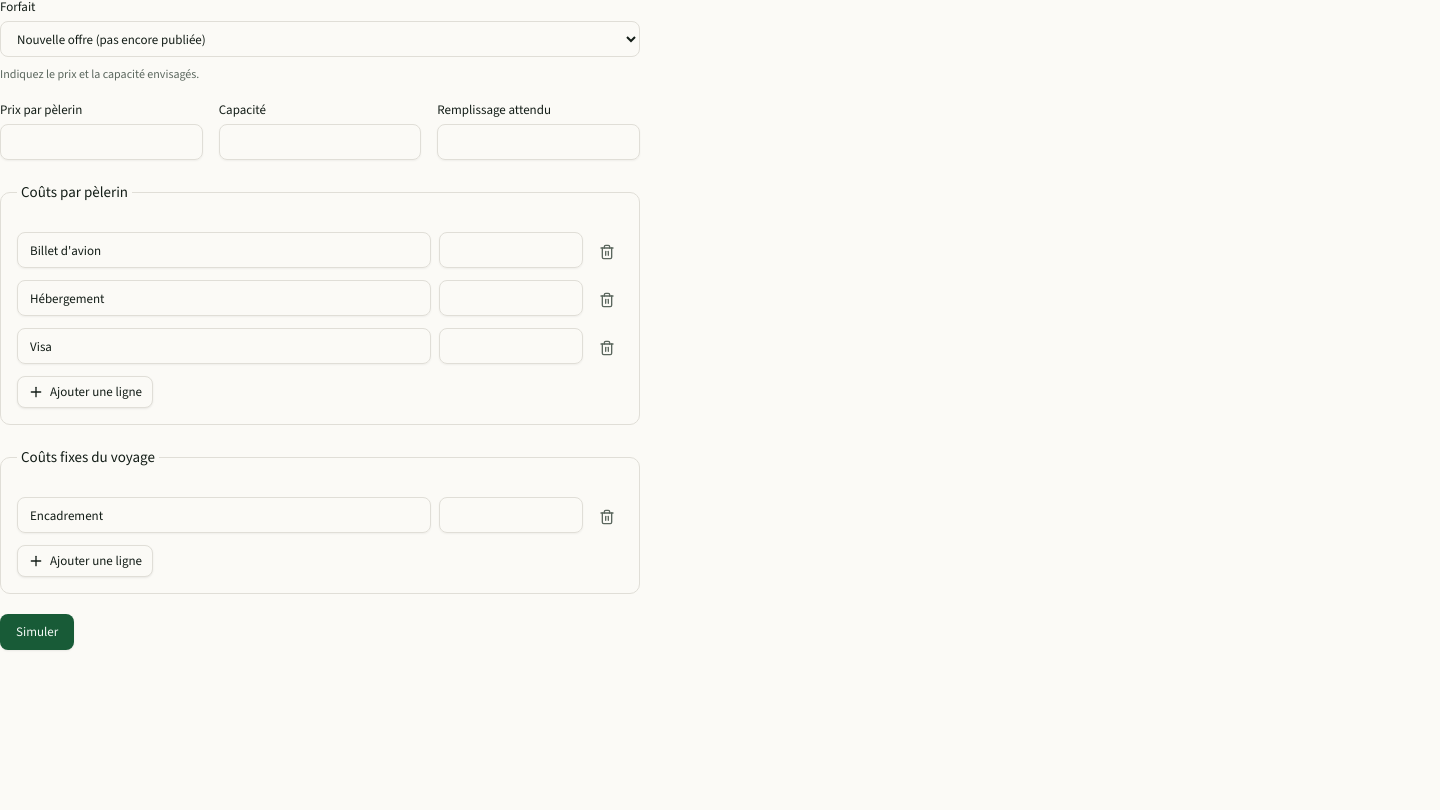
Test case: ProfitabilitySimulator (idée #48) › envoie les hypothèses sans taux de commission et affiche le résultat
This screenshot has width=1440, height=810.
Type "1000" into the field labelled "Prix par pèlerin". click: (101,142)
box: [0, 124, 203, 160]
Type "40" into the field labelled "Capacité". click: (320,142)
box: [219, 124, 421, 160]
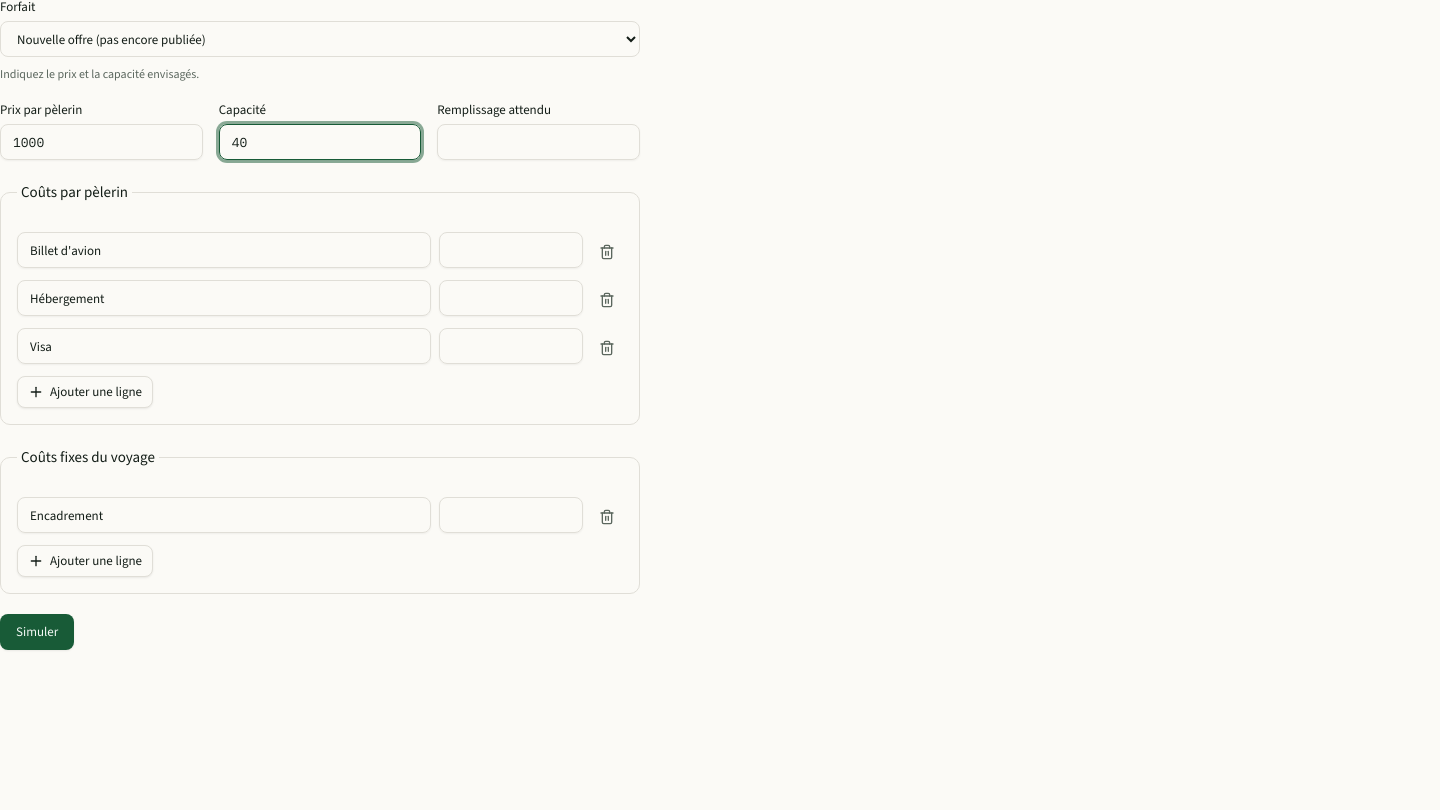
Type "500" into the field named "Coûts par pèlerin — montant de la ligne 1". click: (511,250)
box: [439, 232, 583, 268]
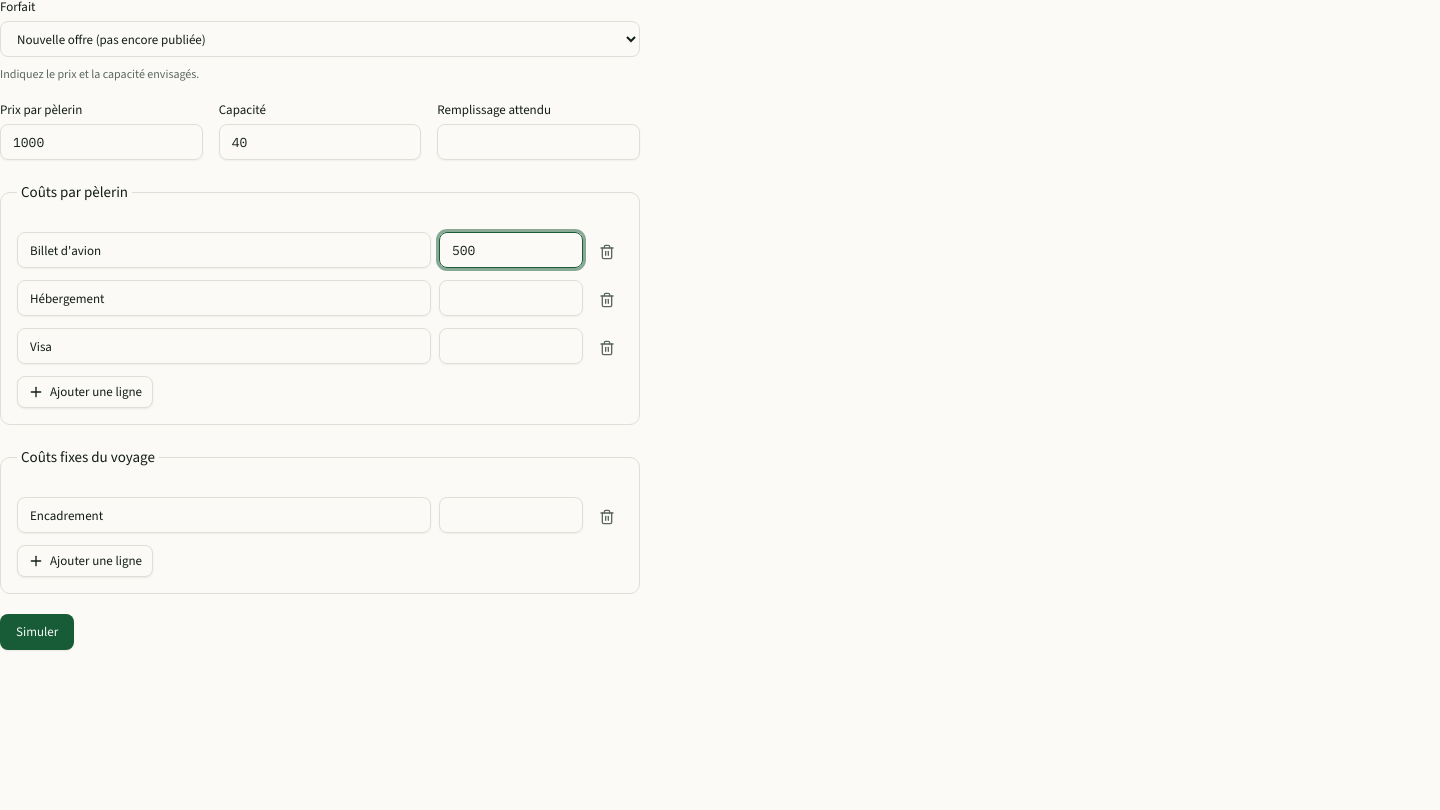
Type "150" into the field named "Coûts par pèlerin — montant de la ligne 2". click: (511,298)
box: [439, 280, 583, 316]
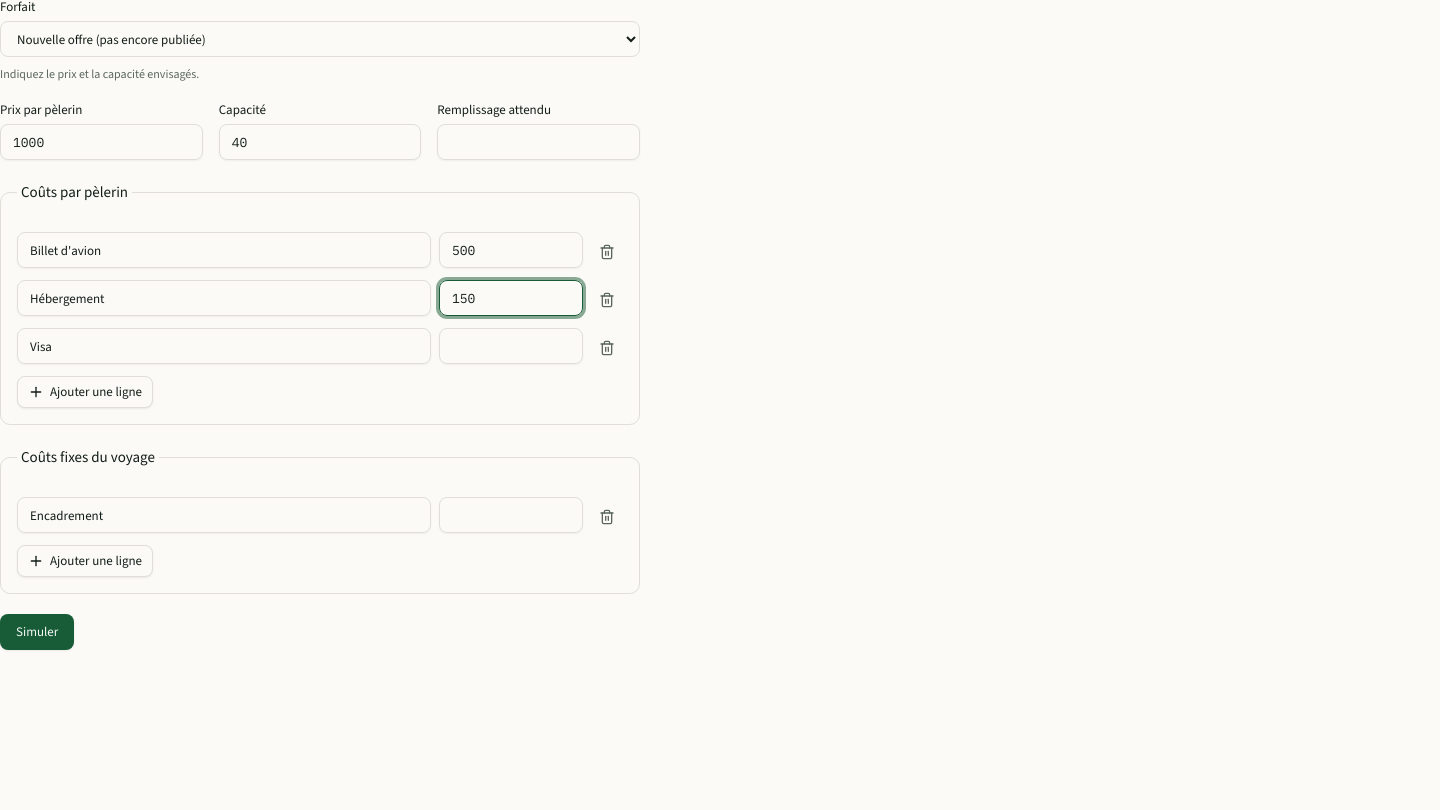
Type "50" into the field named "Coûts par pèlerin — montant de la ligne 3". click: (511,346)
box: [439, 328, 583, 364]
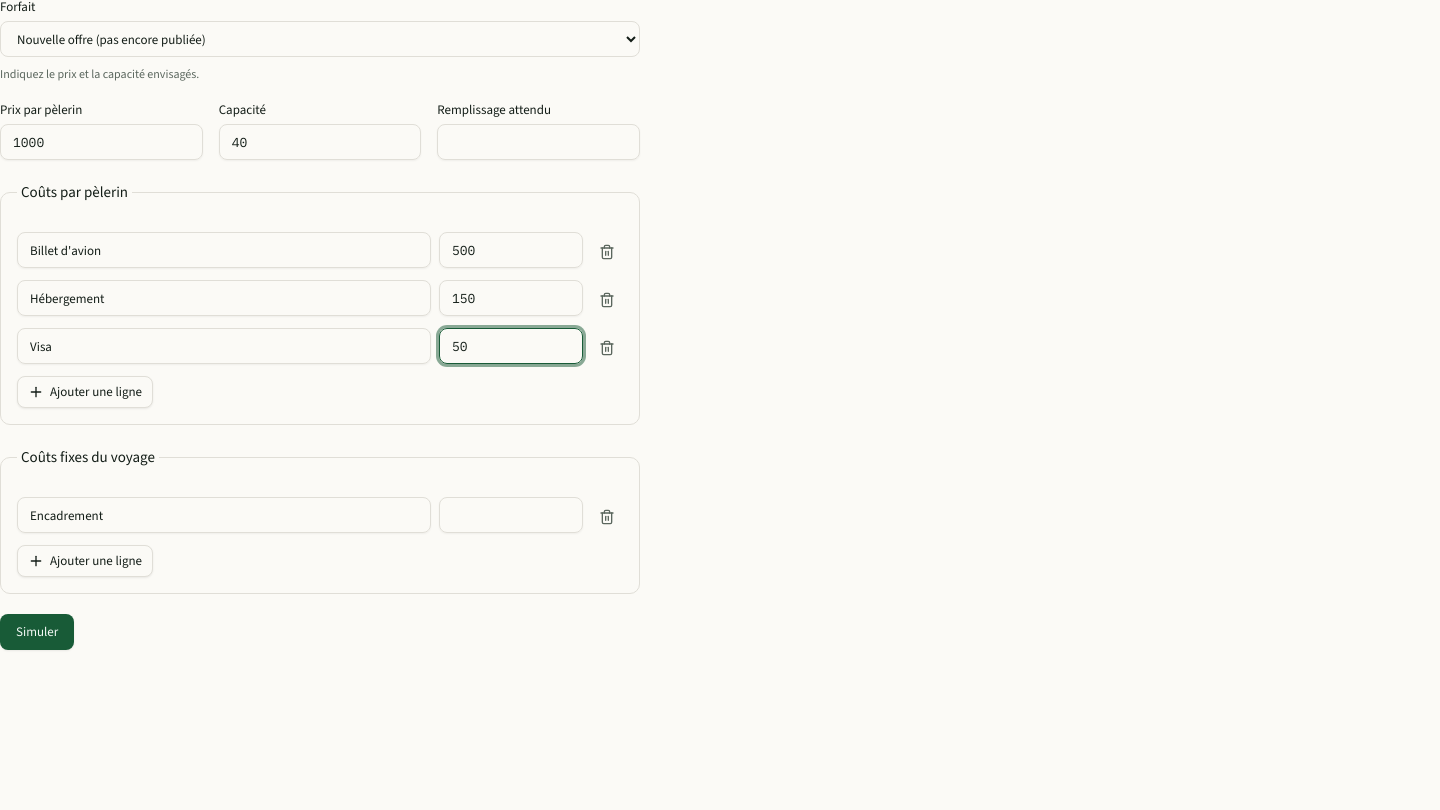
Type "3000" into the field named "Coûts fixes du voyage — montant de la ligne 1". click: (511,515)
box: [439, 497, 583, 533]
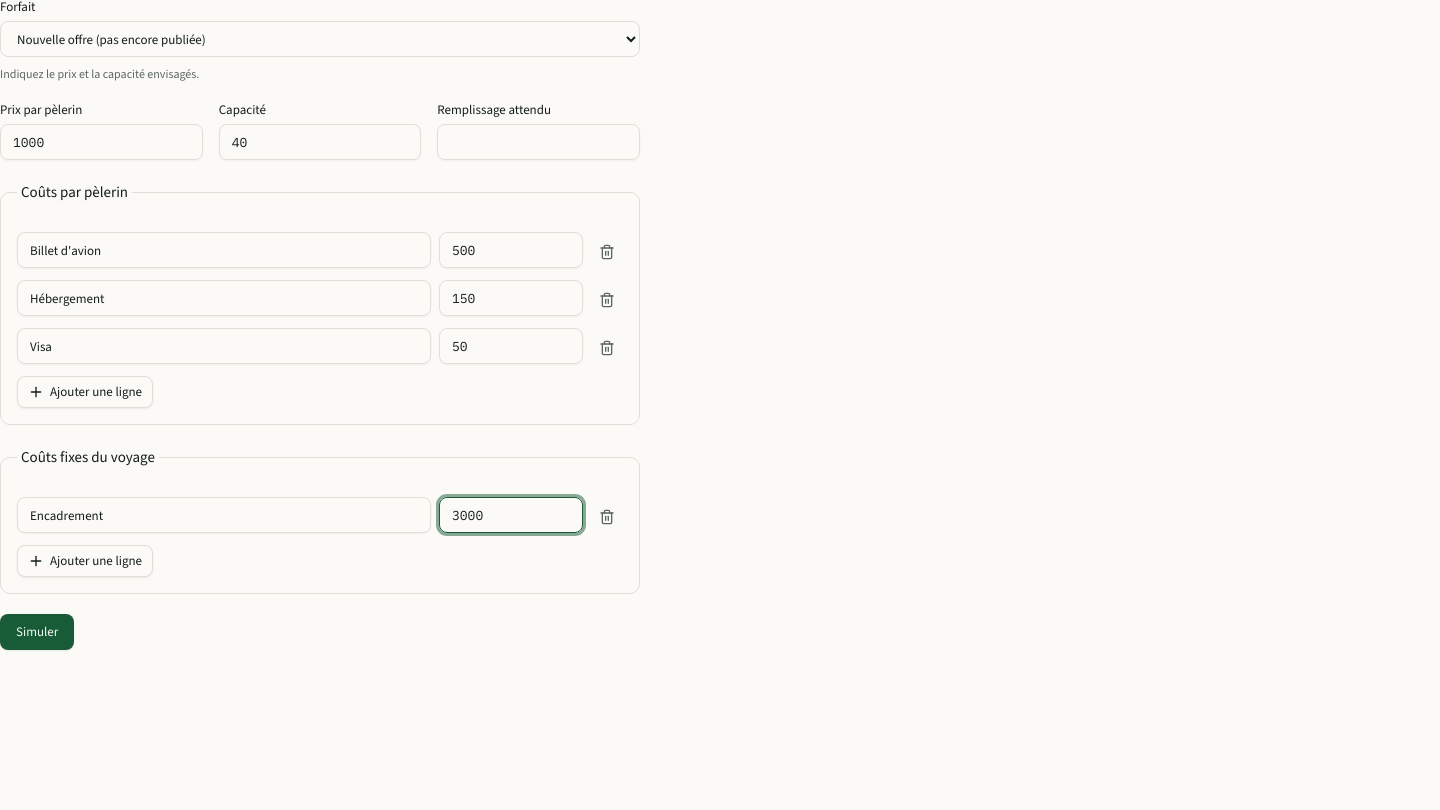
Click the button "Simuler". click: (37,632)
box: [0, 614, 74, 650]
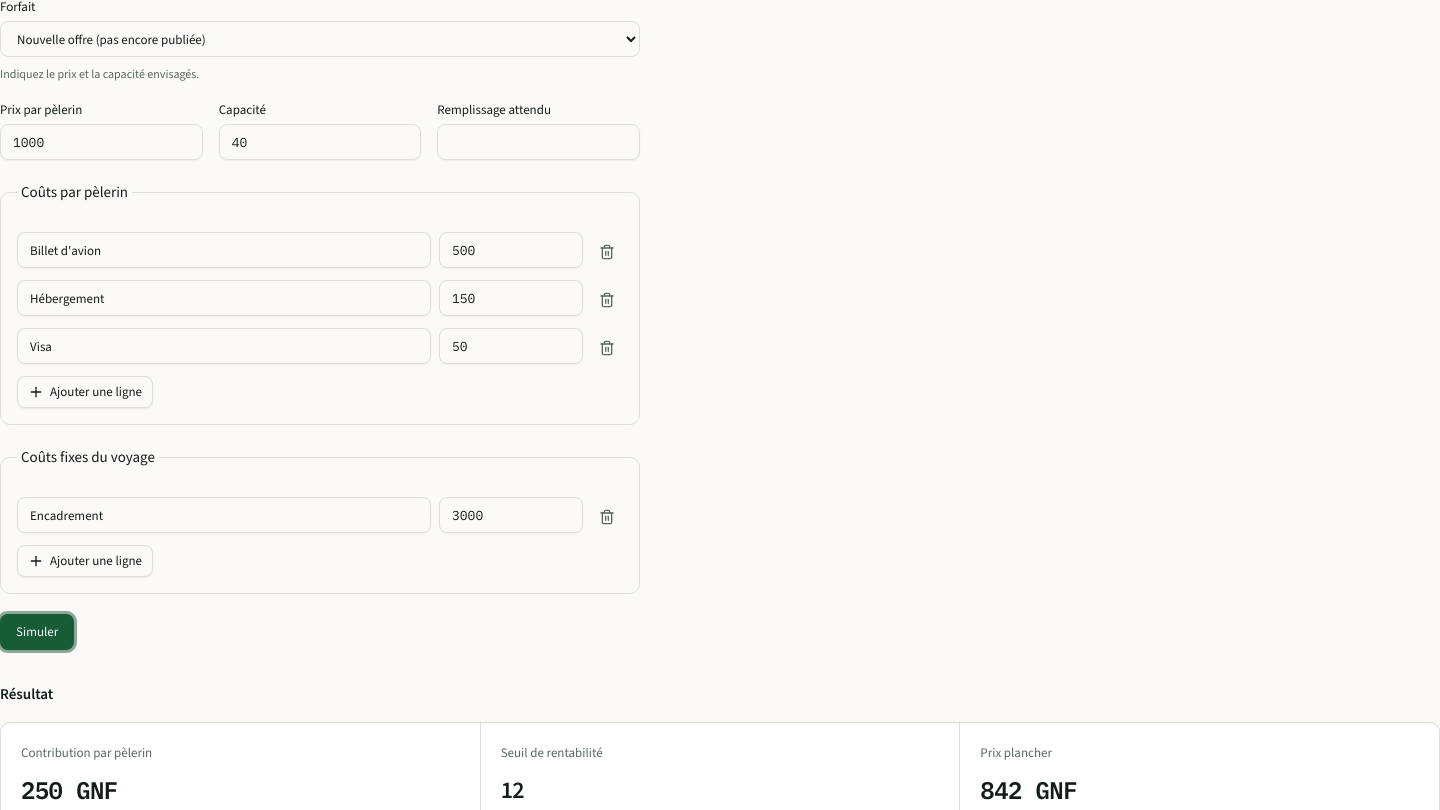
Check: the heading "Seuil de rentabilité" is shown, box [501, 744, 603, 761]
Check: the text "12" is shown, box [501, 774, 524, 806]
